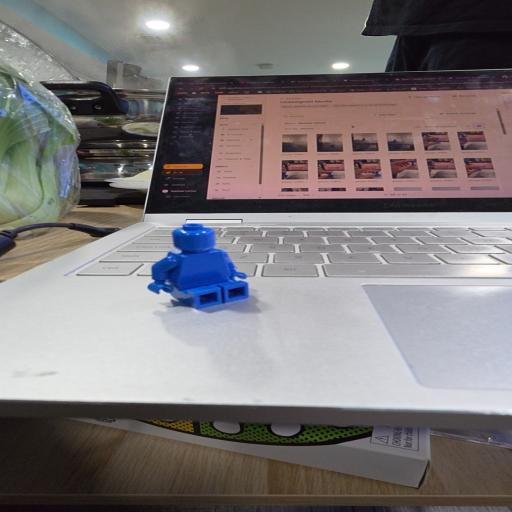Blue: (148, 223, 248, 309)
